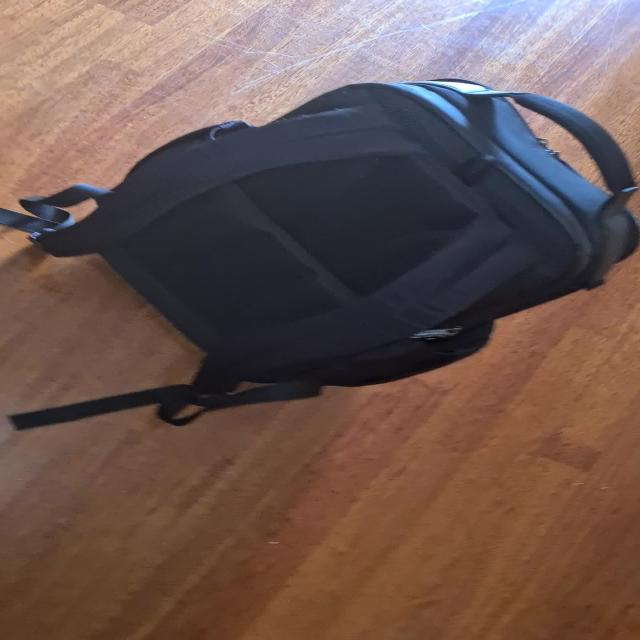backpack: (80, 62, 640, 394)
